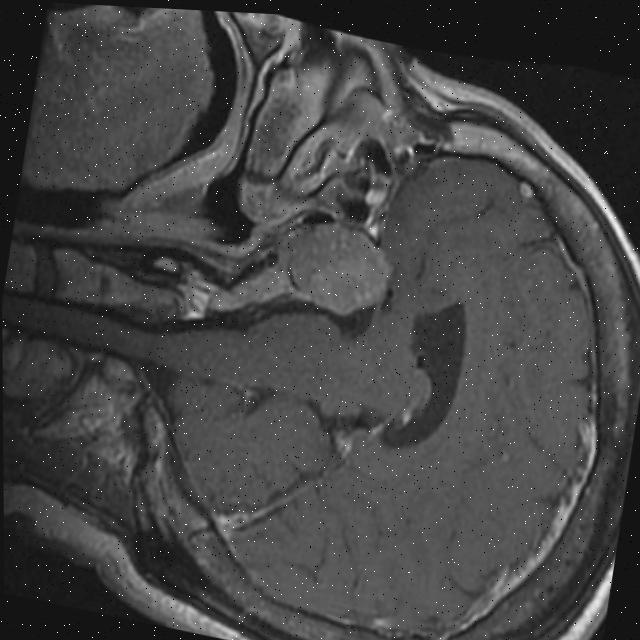Pituitary: (276, 213, 397, 325)
